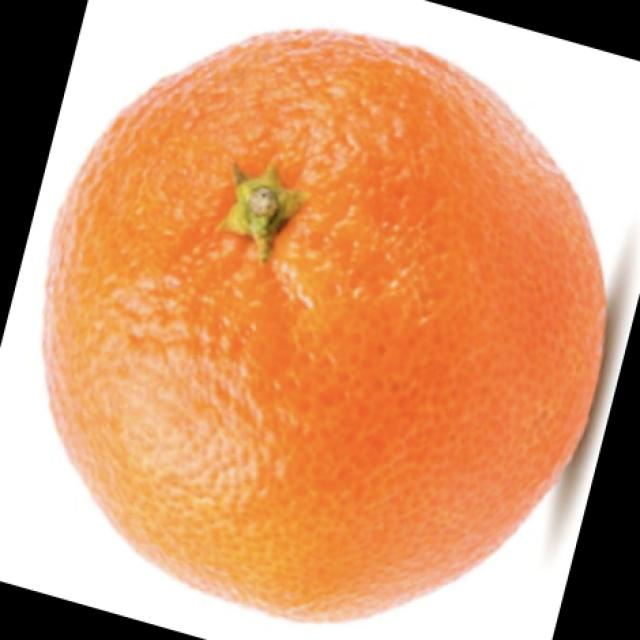fresh: (51, 34, 610, 640)
